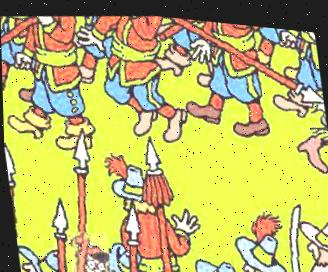waldo: (65, 227, 114, 272)
